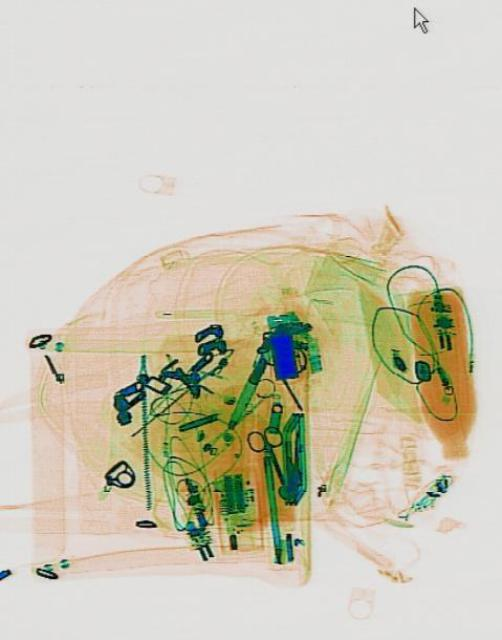Scissors: (243, 417, 297, 493)
